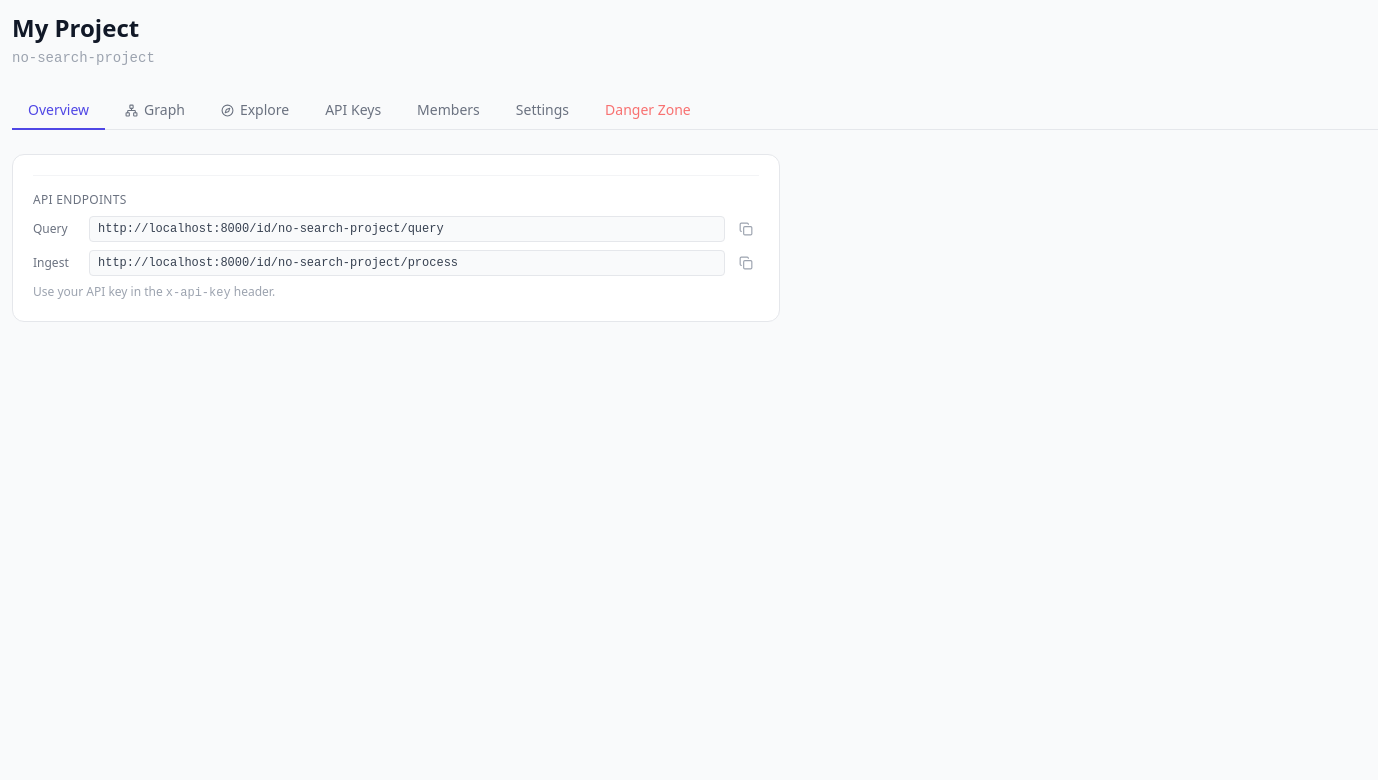
Test: ProjectDetail page › Settings tab version › shows the project's own version, not the default
Expected: the heading "My Project" is shown, [12,11,139,44]
Click the tab "Settings": (542,111) [500,92,585,130]
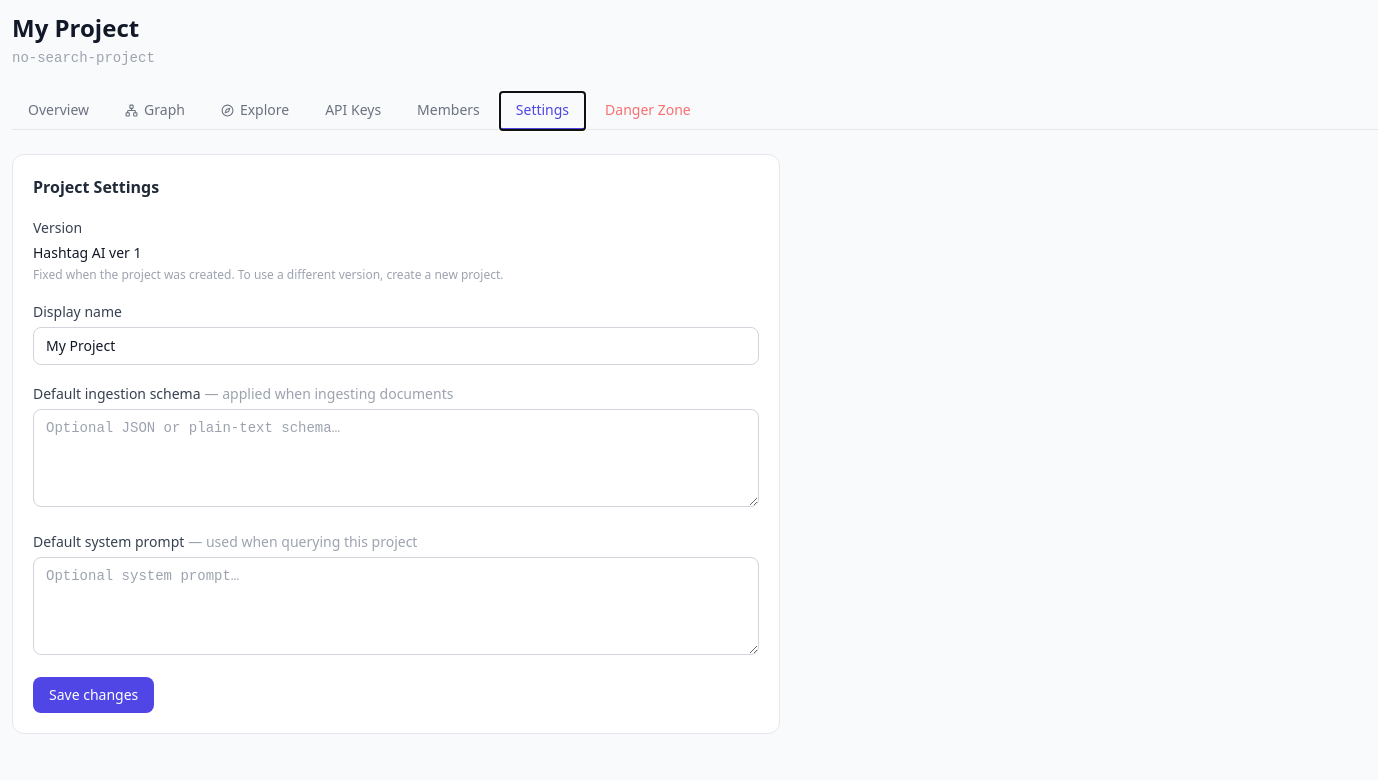
Expected: the text with test id "project-algorithm" reads "Hashtag AI ver 1", [33,243,142,262]
